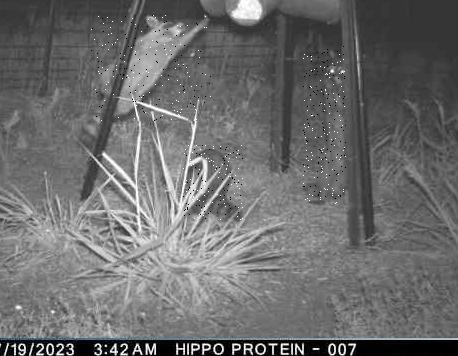Raccoon: (92, 14, 212, 121), (304, 46, 347, 204), (182, 146, 243, 221)
